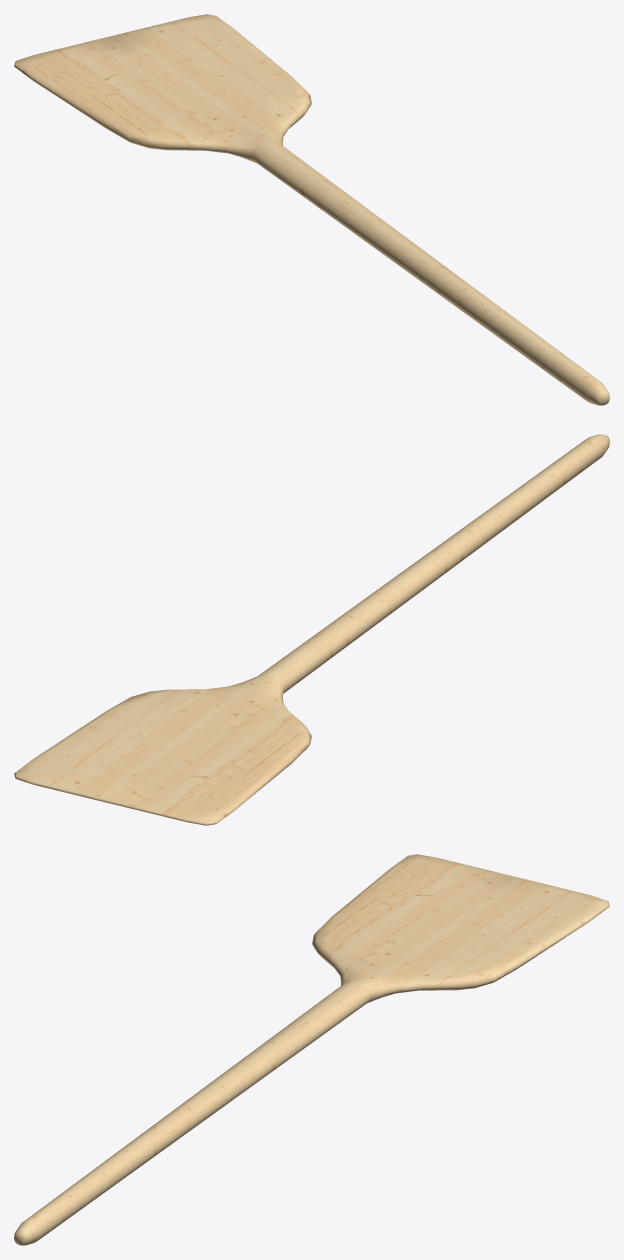
Rendered from DoughShovel.fbx.
3 views of the same model, one above another, from view 1: azimuth 30°, elevation 25°; view 2: azimuth 150°, elevation 25°; view 3: azimuth 330°, elevation 25° (orthographic).
Visible parts, largest first — view 1: Dough_shovel_LOD0; view 2: Dough_shovel_LOD0; view 3: Dough_shovel_LOD0.
Part boxes in pixels (x1=…): Dough_shovel_LOD0: x1=14, y1=14, x2=609, y2=405; Dough_shovel_LOD0: x1=14, y1=434, x2=609, y2=825; Dough_shovel_LOD0: x1=14, y1=854, x2=609, y2=1245.
Size of the model in its own units: 0.2847 by 0.0289 by 1.2.
